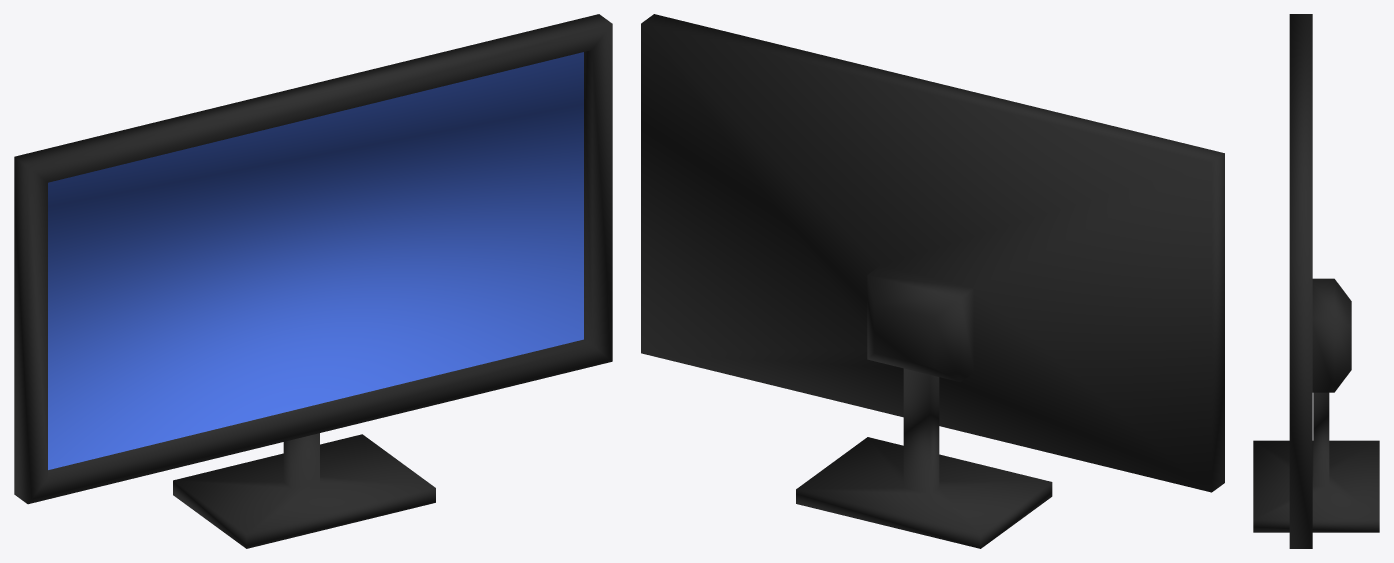
3 views of the same model, side by side, from view 1: azimuth 30°, elevation 25°; view 2: azimuth 150°, elevation 25°; view 3: azimuth 270°, elevation 25° (orthographic). The views are drawn at different scales.
Parts seen in each view (by area): view 1: TV; view 2: TV; view 3: TV.
Boxes of the visible parts, x1=… form: TV: x1=14, y1=14, x2=612, y2=548; TV: x1=641, y1=14, x2=1224, y2=548; TV: x1=1253, y1=14, x2=1379, y2=548.
Size of the model in its own units: 141 by 95.8 by 30.71.
